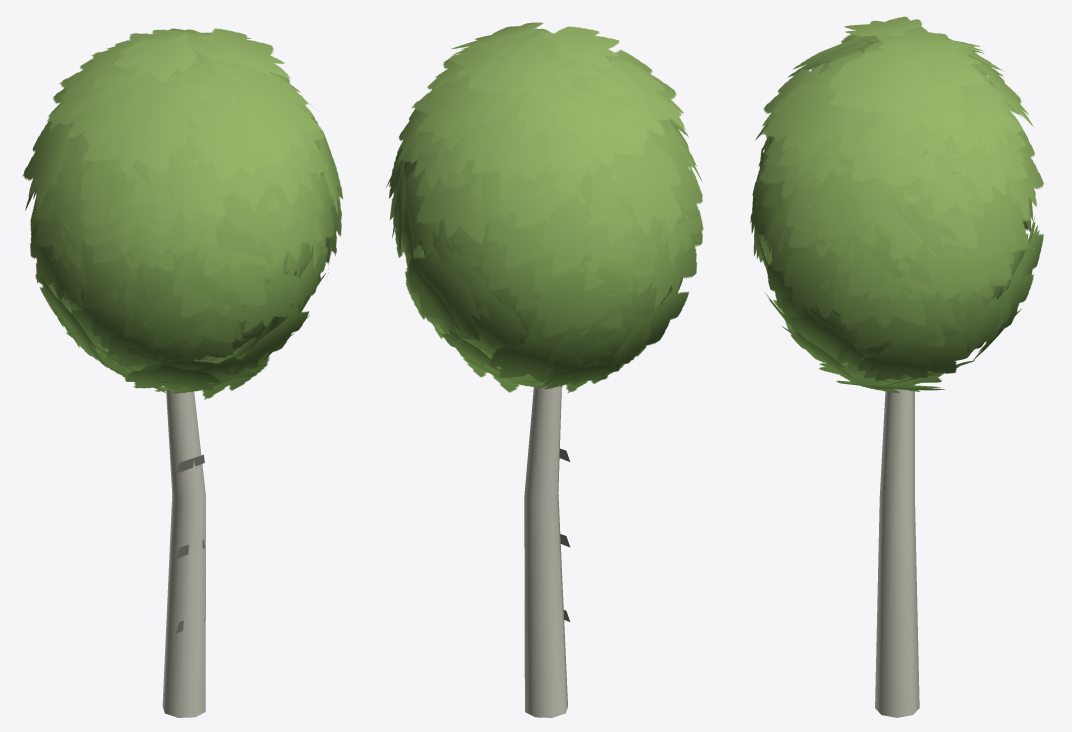
Rendered from birch-41.glb.
3 renders of one model, left to right at view 1: azimuth 30°, elevation 25°; view 2: azimuth 150°, elevation 25°; view 3: azimuth 270°, elevation 25°, orthographic.
Parts seen in each view (by area): view 1: pale birch; view 2: pale birch; view 3: pale birch.
Boxes of the visible parts, x1,y1,x2,y2 form: pale birch: [22, 28, 342, 717]; pale birch: [386, 22, 703, 717]; pale birch: [750, 16, 1043, 717].
Size of the model in its own units: 2.91 by 6.34 by 2.7.
Materials: 1 (1 with a texture image).
